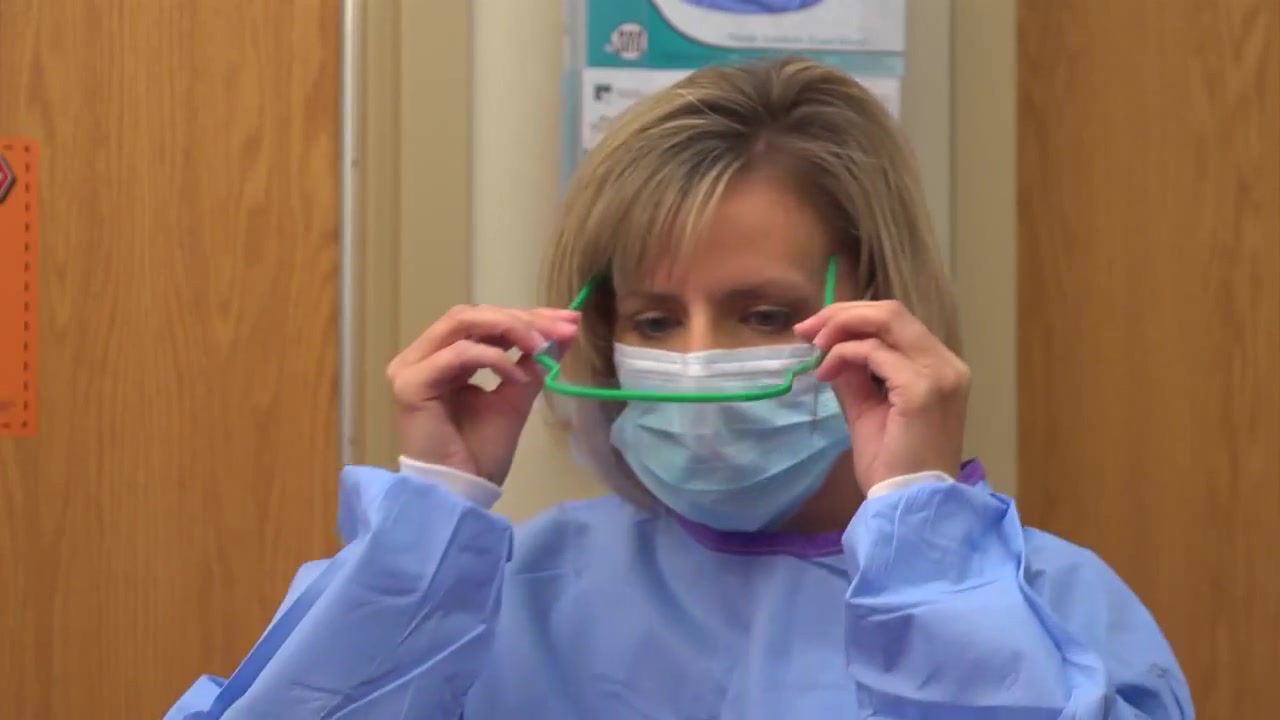Coverall: (293, 425, 1192, 720)
Face_Shield: (524, 304, 862, 574)
with_mask: (606, 315, 842, 531)
